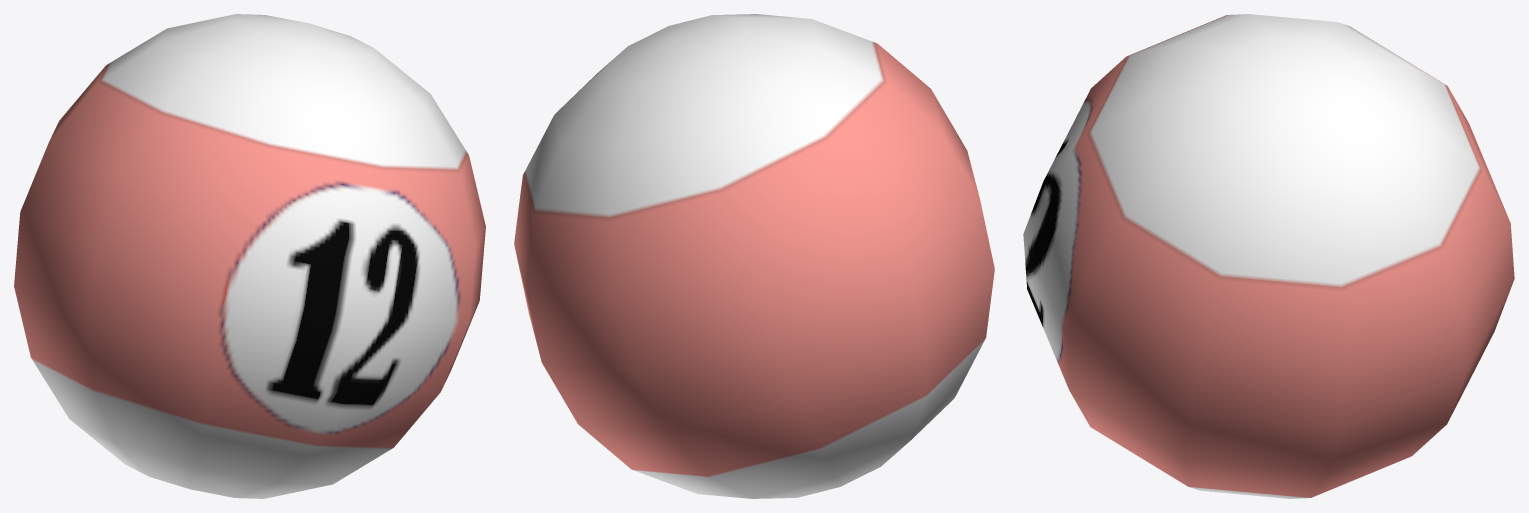
The model's file is Ball12.gltf.
3 views of the same model, side by side, from view 1: azimuth 30°, elevation 25°; view 2: azimuth 150°, elevation 25°; view 3: azimuth 270°, elevation 25° (orthographic).
Parts seen in each view (by area): view 1: Ball11_Material_#38_0; view 2: Ball11_Material_#38_0; view 3: Ball11_Material_#38_0.
Boxes of the visible parts, <box> form: Ball11_Material_#38_0: <box>14,14,485,498</box>; Ball11_Material_#38_0: <box>514,14,994,498</box>; Ball11_Material_#38_0: <box>1023,14,1514,498</box>.
Bounding box in the file's own units: 5.56 × 5.78 × 5.75.
1 material, 1 textured.
